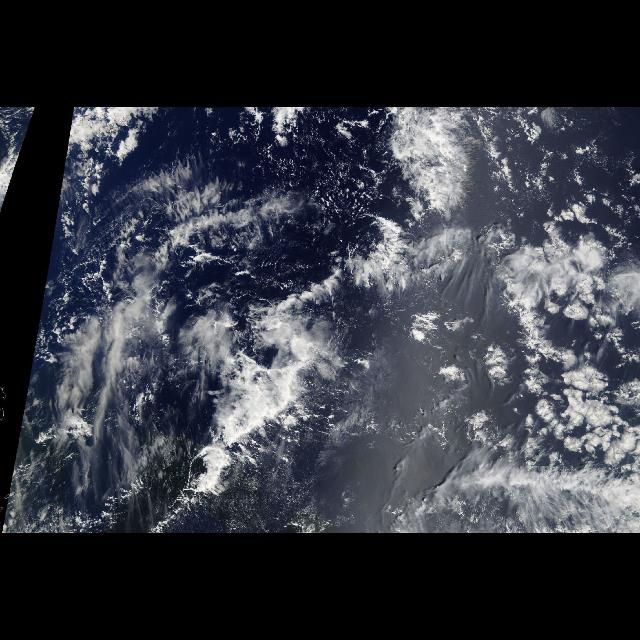Flower: (450, 175, 640, 482)
Sugar: (236, 462, 364, 532)
